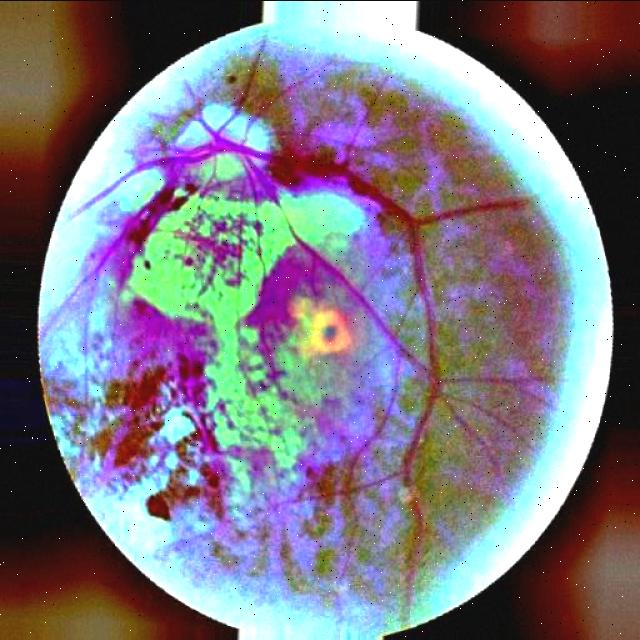Macula: (263, 271, 354, 357)
Nerves: (221, 134, 516, 586), (39, 137, 221, 470)
Optic Disk: (167, 96, 273, 200)
